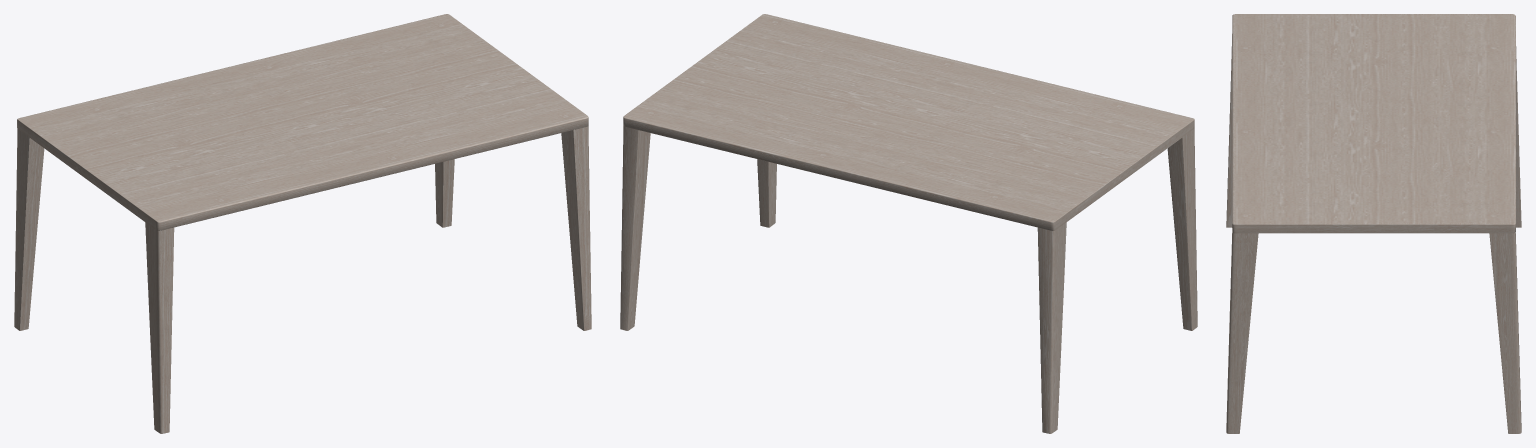
Rendered from graceful_dinningtable.gltf.
3 renders of one model, left to right at view 1: azimuth 30°, elevation 25°; view 2: azimuth 150°, elevation 25°; view 3: azimuth 270°, elevation 25°, orthographic.
Parts seen in each view (by area): view 1: Mesh; view 2: Mesh; view 3: Mesh.
Part boxes in pixels (x1,y1,x2,y2): Mesh: (14,14,591,433); Mesh: (620,14,1197,433); Mesh: (1226,14,1521,433).
Bounding box in the file's own units: 1.6 × 0.7429 × 0.9489.
1 material, 1 textured.
